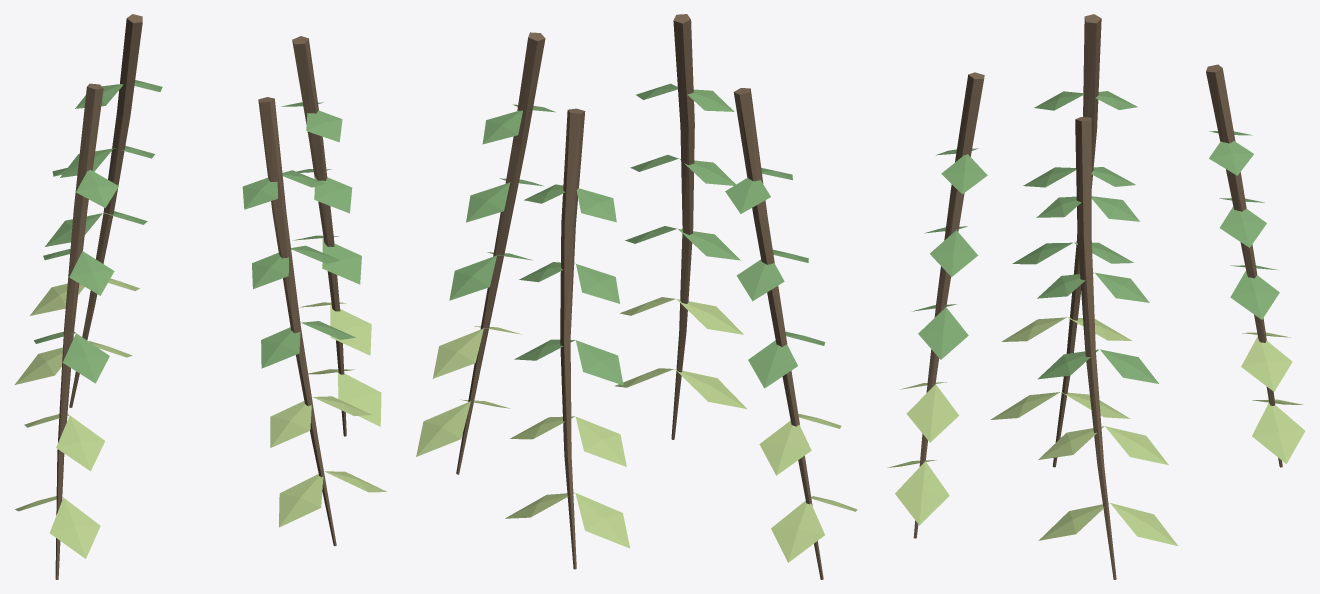
File: vine_v01.glb
3 views of the same model, side by side, from view 1: azimuth 30°, elevation 25°; view 2: azimuth 150°, elevation 25°; view 3: azimuth 270°, elevation 25° (orthographic). The views are drawn at different scales.
Visible parts, largest first — view 1: Wildwuchs_bark_nocol, Wildwuchs_green_nocol, Wildwuchs_tip_nocol; view 2: Wildwuchs_bark_nocol, Wildwuchs_green_nocol, Wildwuchs_tip_nocol; view 3: Wildwuchs_green_nocol, Wildwuchs_bark_nocol, Wildwuchs_tip_nocol.
Boxes of the visible parts, bbox=[...] form: Wildwuchs_bark_nocol: bbox=[55, 14, 346, 579]; Wildwuchs_green_nocol: bbox=[34, 80, 361, 383]; Wildwuchs_tip_nocol: bbox=[15, 278, 386, 558]; Wildwuchs_bark_nocol: bbox=[456, 14, 823, 579]; Wildwuchs_green_nocol: bbox=[449, 83, 824, 388]; Wildwuchs_tip_nocol: bbox=[416, 297, 857, 562]; Wildwuchs_green_nocol: bbox=[912, 91, 1279, 383]; Wildwuchs_bark_nocol: bbox=[913, 14, 1282, 579]; Wildwuchs_tip_nocol: bbox=[887, 317, 1305, 545].
Size of the model in its own units: 3.05 by 3.77 by 3.
